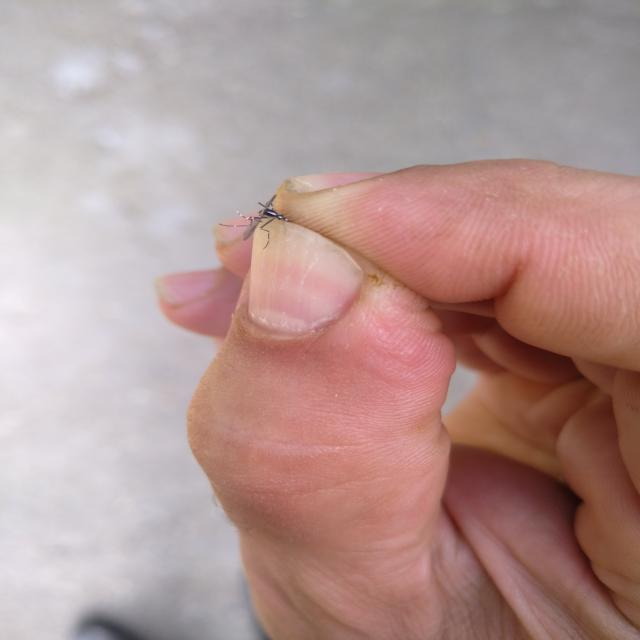albopictus: (224, 185, 301, 250)
